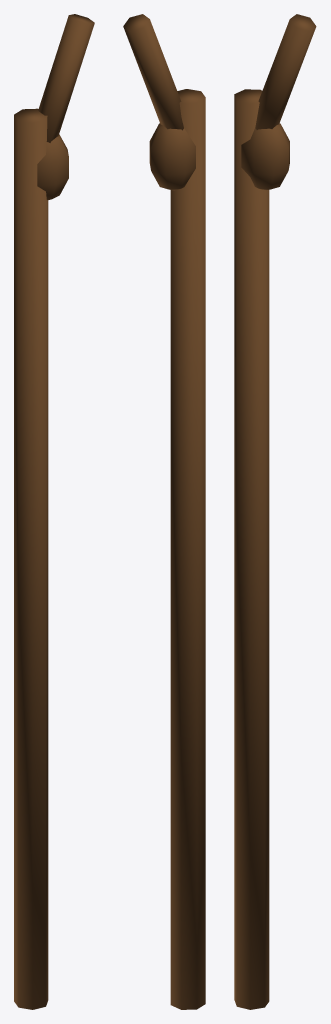
The model's file is weapon_druida_comum.glb.
3 renders of one model, left to right at view 1: azimuth 30°, elevation 25°; view 2: azimuth 210°, elevation 25°; view 3: azimuth 330°, elevation 25°, orthographic. The views are drawn at different scales.
Visible parts, largest first — view 1: weapon_druida_comum; view 2: weapon_druida_comum; view 3: weapon_druida_comum.
Part boxes in pixels (x1,y1,x2,y2): weapon_druida_comum: [14, 14, 94, 1009]; weapon_druida_comum: [123, 14, 205, 1009]; weapon_druida_comum: [234, 14, 316, 1009].
Size of the model in its own units: 0.2209 by 2.75 by 0.1141.
